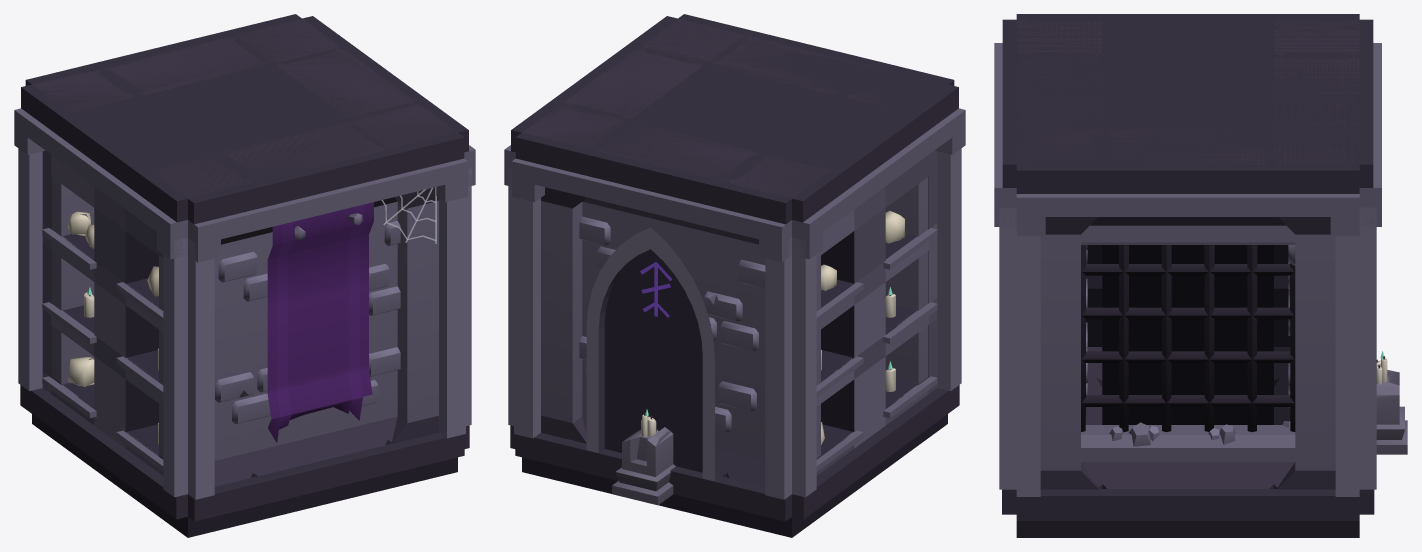
File: wall_c.fbx
The picture shows the model from 3 angles, left to right: view 1: azimuth 30°, elevation 25°; view 2: azimuth 150°, elevation 25°; view 3: azimuth 270°, elevation 25°; orthographic projection. The views are drawn at different scales.
Parts seen in each view (by area): view 1: wall_c; view 2: wall_c; view 3: wall_c.
Part boxes in pixels (<box>): wall_c: <box>14,14,475,537</box>; wall_c: <box>504,14,965,537</box>; wall_c: <box>994,14,1407,537</box>.
Bounding box in the file's own units: 4.52 × 4.8 × 4.82.
